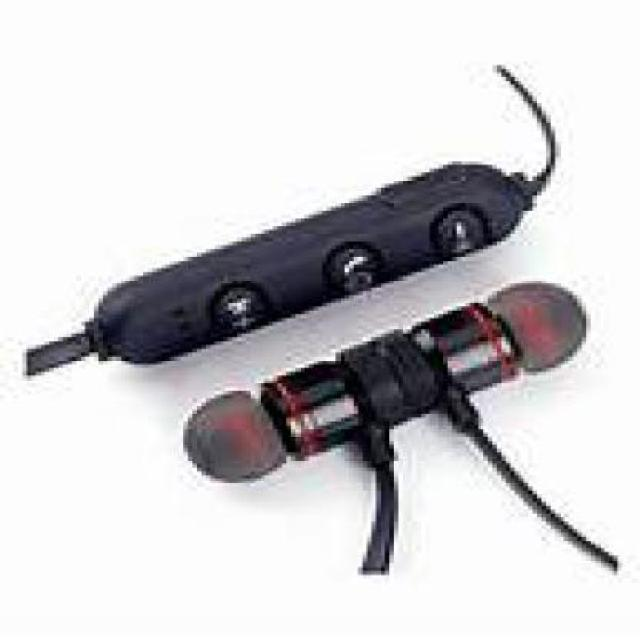earphone: (10, 27, 640, 640)
